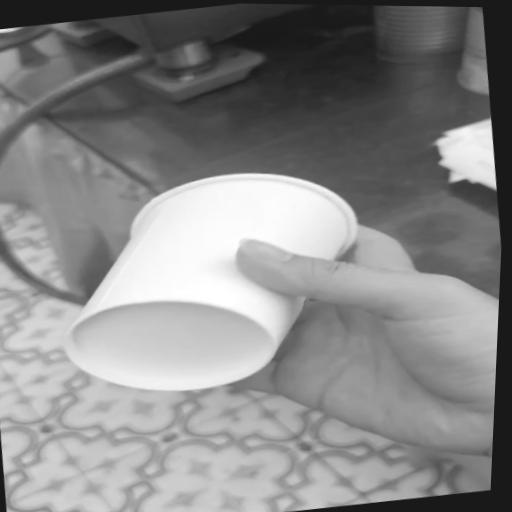Ly_giay: (67, 173, 358, 390)
